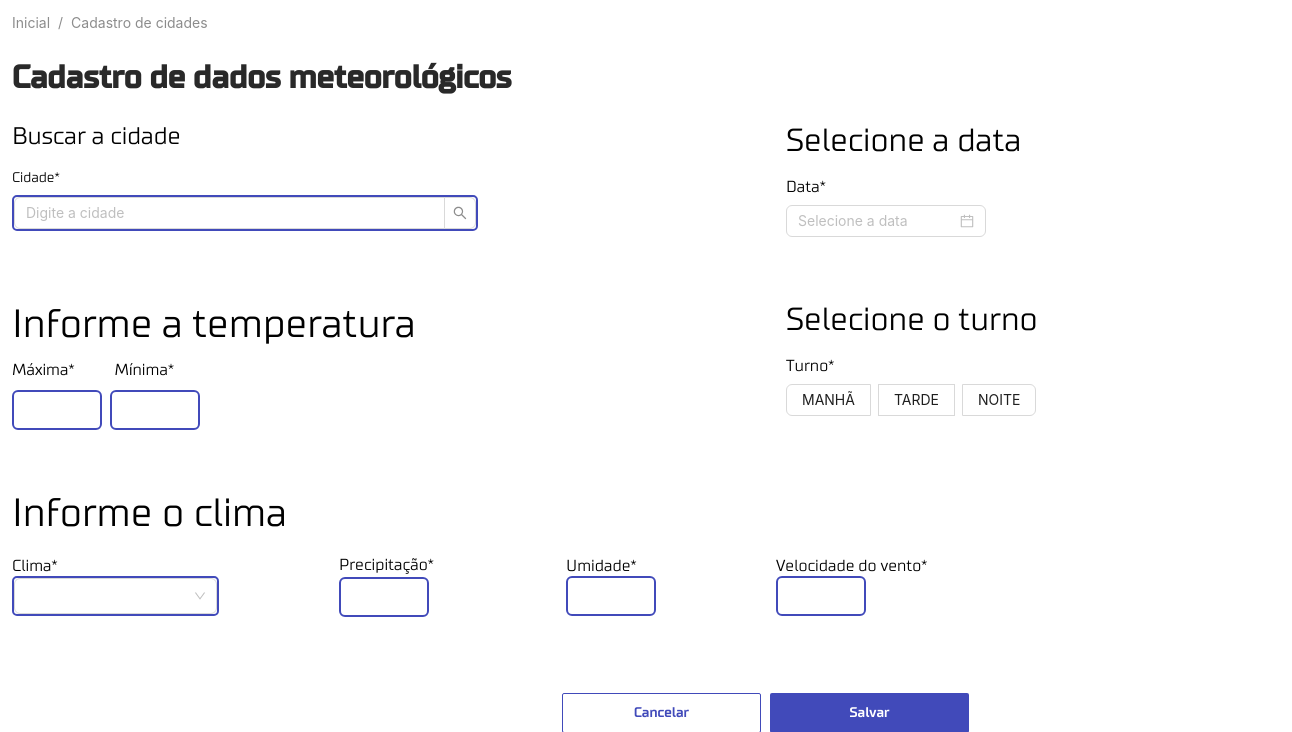
Test: CadastroCidadePage › Componente de informação do clima › Deve preencher a velocidade do vento corretamente
Type "15" into the number field with test id "input_vento" at point(821, 593), box [778,578,864,608]
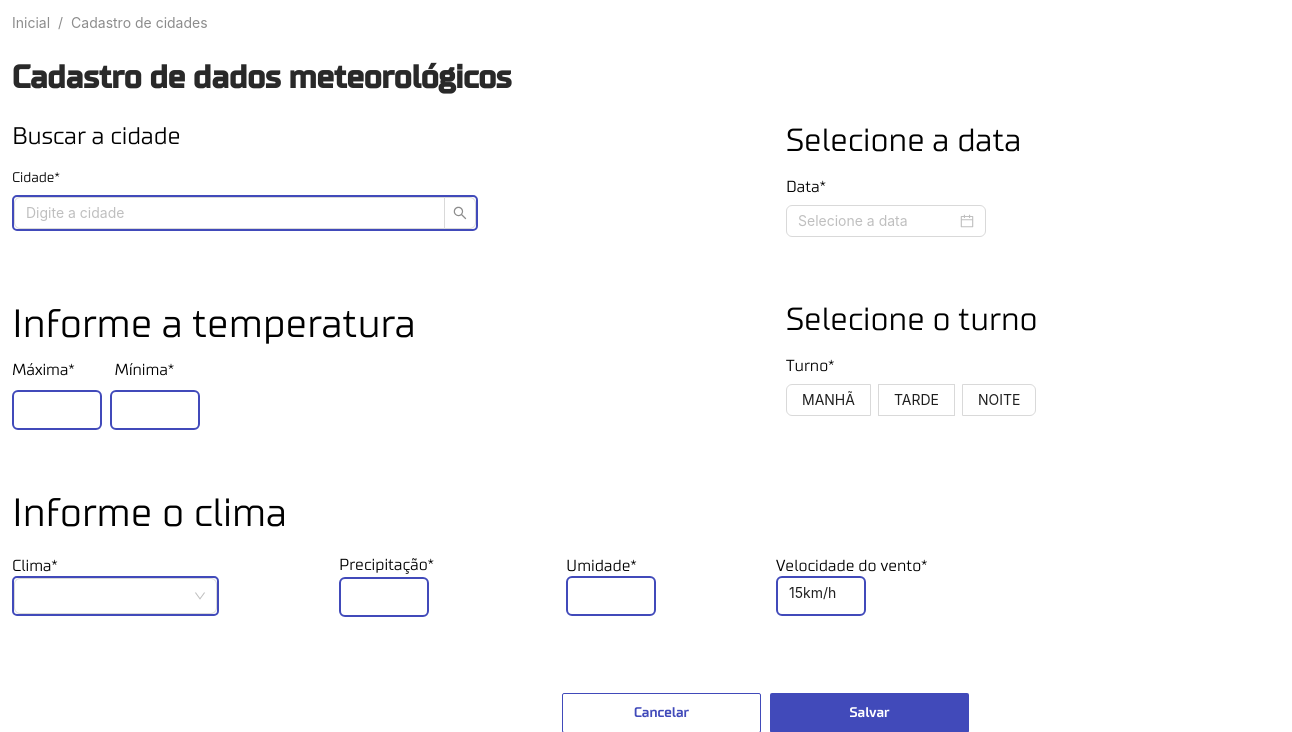
expect the number field with test id "input_vento" holds "15km/h": met, box [778,578,864,608]
